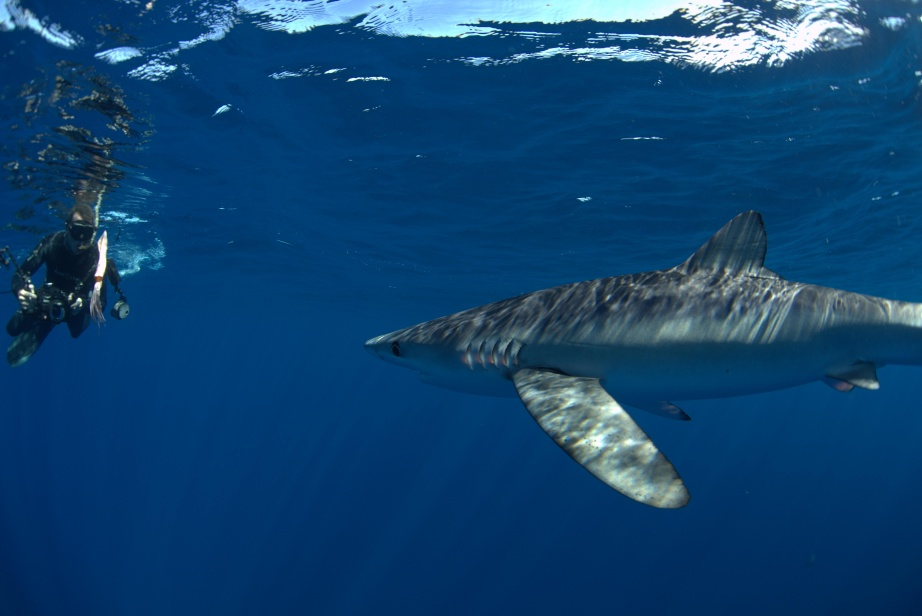Azul: (332, 156, 921, 516)
